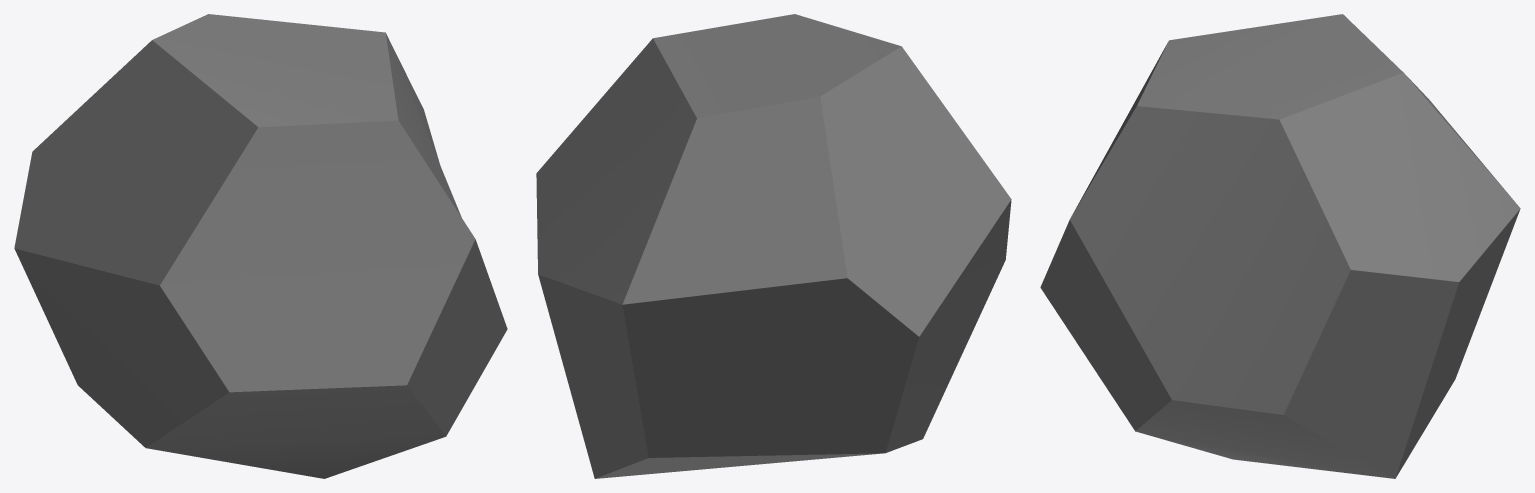
File: Rock.fbx
3 views of the same model, side by side, from view 1: azimuth 30°, elevation 25°; view 2: azimuth 150°, elevation 25°; view 3: azimuth 270°, elevation 25° (orthographic). The views are drawn at different scales.
Parts seen in each view (by area): view 1: Cube.001; view 2: Cube.001; view 3: Cube.001.
Boxes of the visible parts, <box> form: Cube.001: <box>14,14,507,478</box>; Cube.001: <box>536,14,1011,478</box>; Cube.001: <box>1040,14,1520,478</box>.
Size of the model in its own units: 98.38 by 97.45 by 108.
